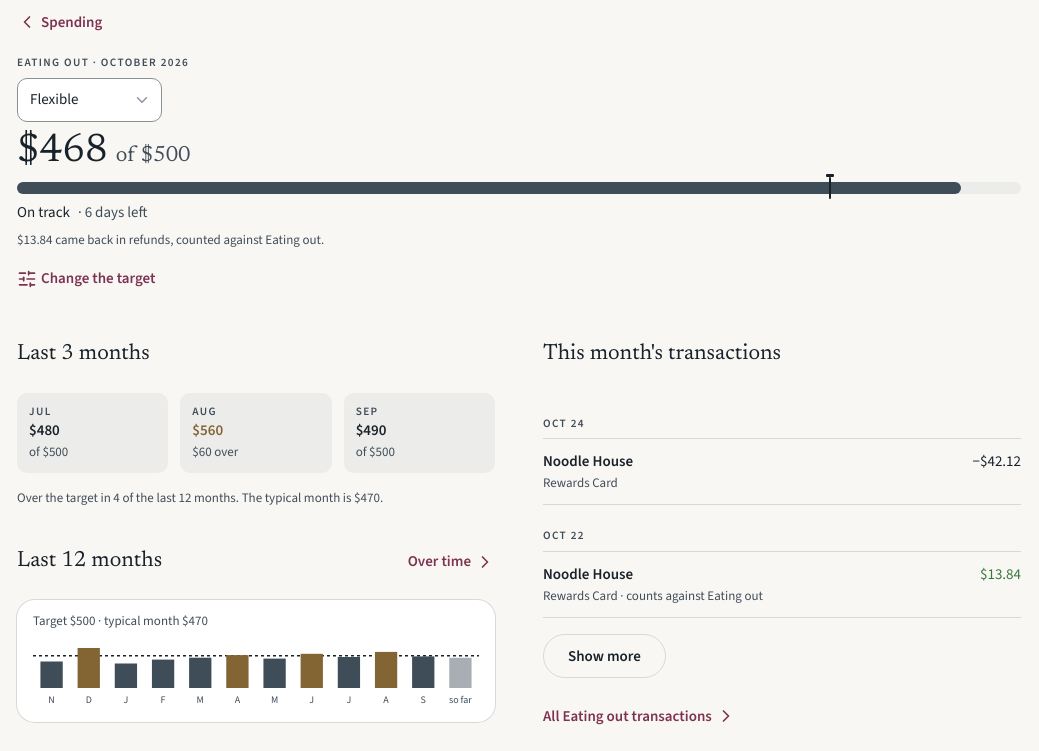
Test: one category › a failed next page keeps the rows shown and offers Try again below them
Check: the number of elements with test id "cat-txn" is 2, box [543, 439, 1021, 505]; [543, 552, 1021, 618]
Click the button "Show more": x=604, y=656 [543, 634, 666, 678]
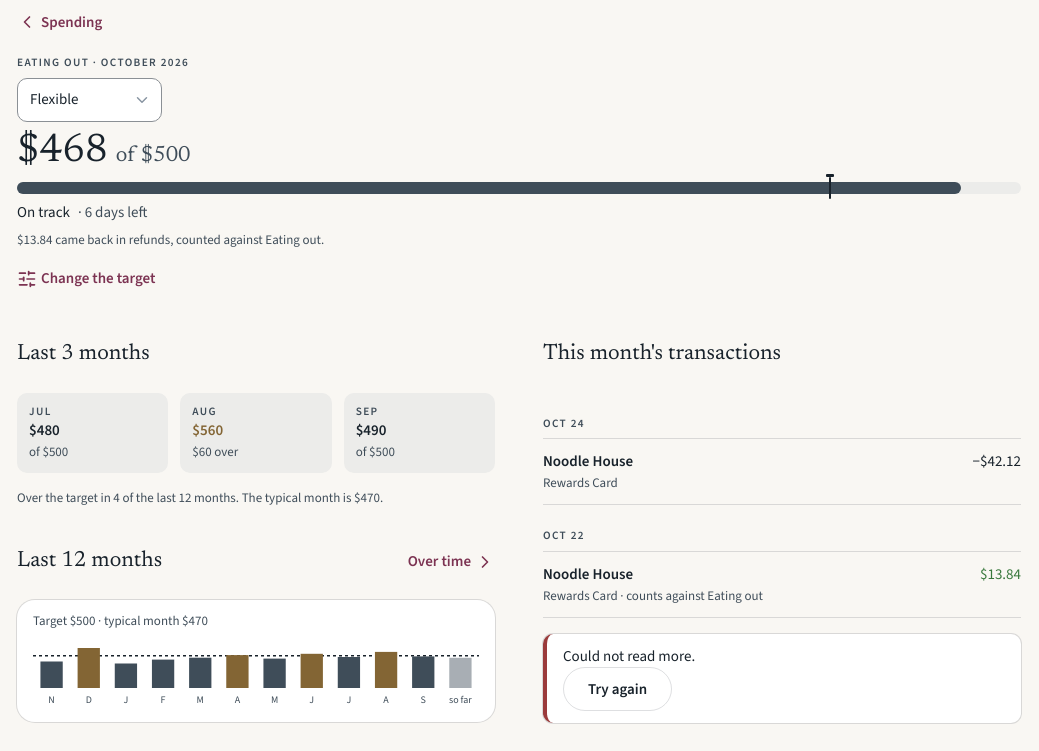
Check: the number of elements with test id "cat-txn" is 2, box [543, 439, 1021, 505]; [543, 552, 1021, 618]
Check: the message shows "Could not read more.", box [563, 646, 695, 666]
Check: the button "Try again" is shown, box [563, 667, 672, 711]
